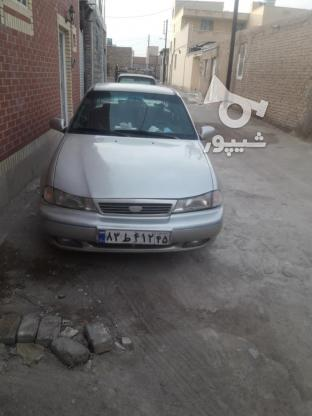car: (99, 229, 173, 248)
